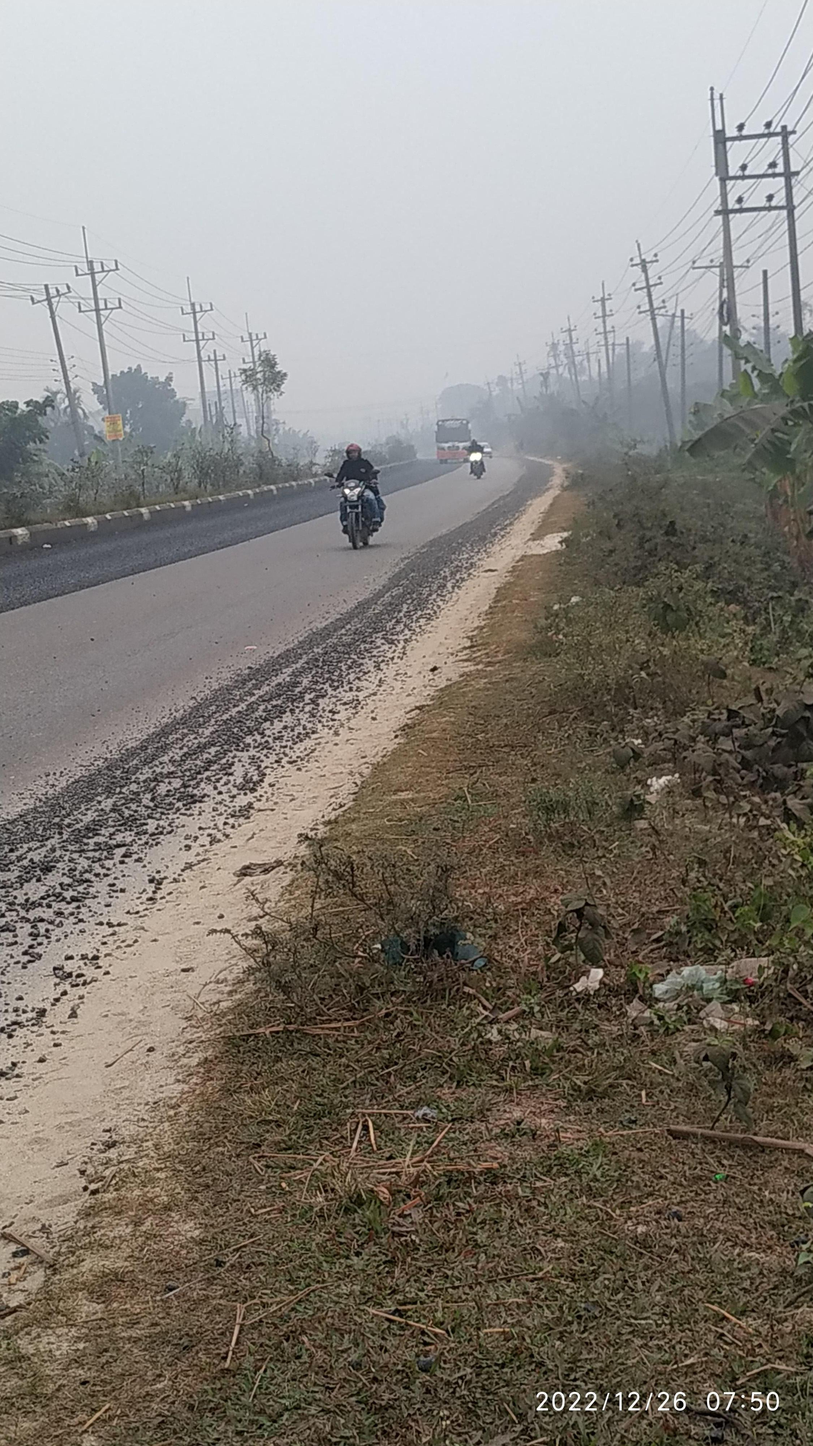Bike: (310, 426, 427, 563), (455, 438, 504, 494)
Bus: (425, 407, 482, 473)
